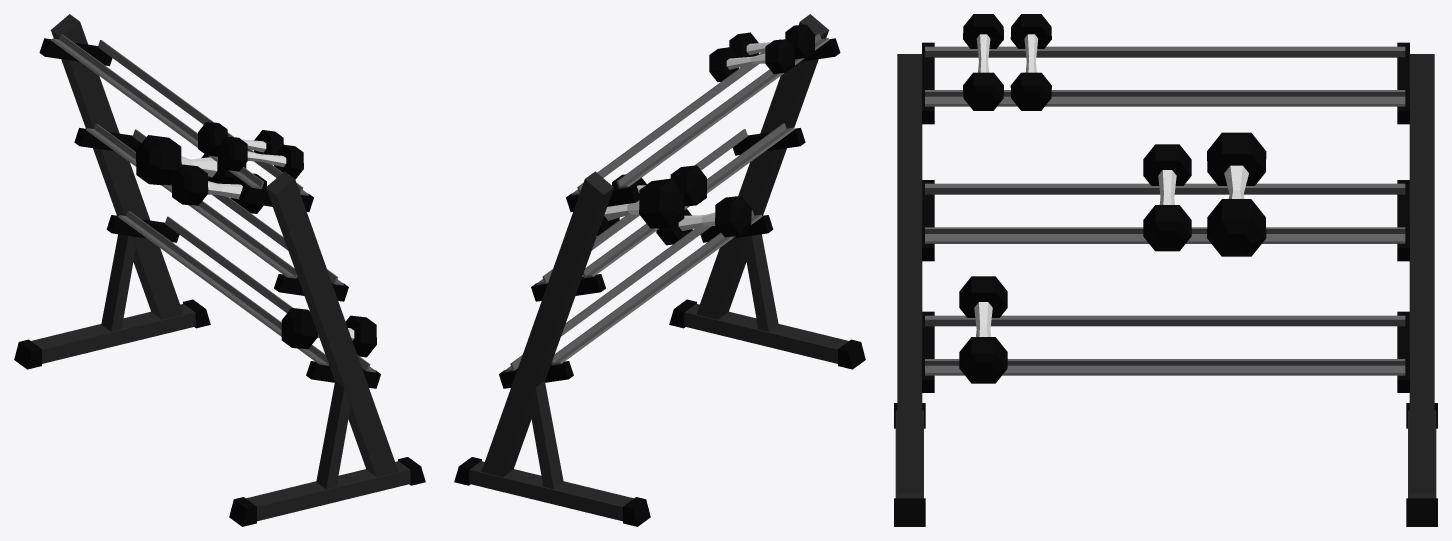
Rendered from Dumbbell stand.glb.
3 renders of one model, left to right at view 1: azimuth 30°, elevation 25°; view 2: azimuth 150°, elevation 25°; view 3: azimuth 270°, elevation 25°, orthographic. The views are drawn at different scales.
Parts seen in each view (by area): view 1: Dumbbell stand; view 2: Dumbbell stand; view 3: Dumbbell stand.
Part boxes in pixels (x1,y1,x2,y2): Dumbbell stand: (14,14,425,526); Dumbbell stand: (454,14,865,526); Dumbbell stand: (894,14,1437,526).
Bounding box in the file's own units: 1.96 × 3.61 × 4.23.
Materials: 1 (1 with a texture image).
